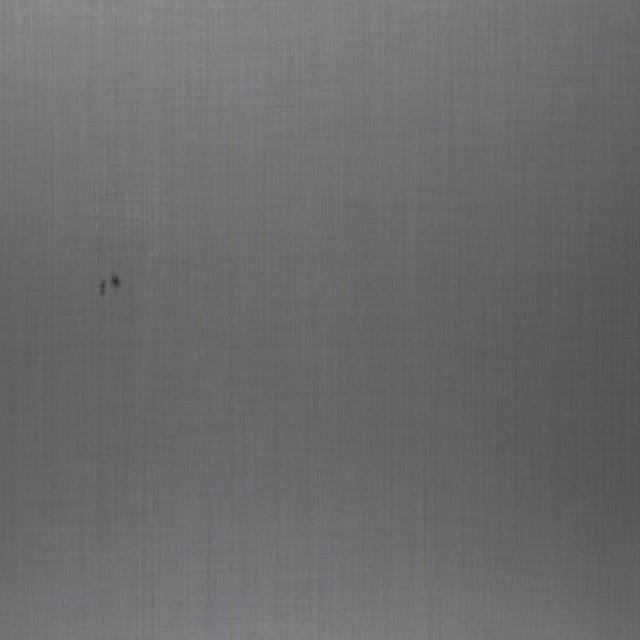dirty: (99, 279, 108, 296), (111, 274, 120, 288)
